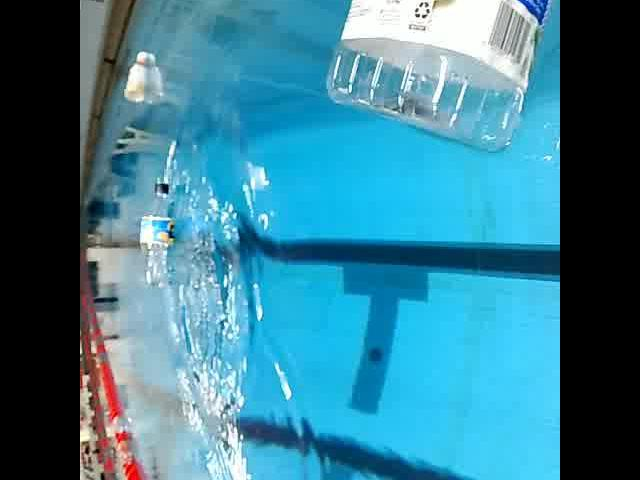Bottle: (319, 0, 560, 155), (138, 174, 178, 296), (124, 44, 154, 110)
